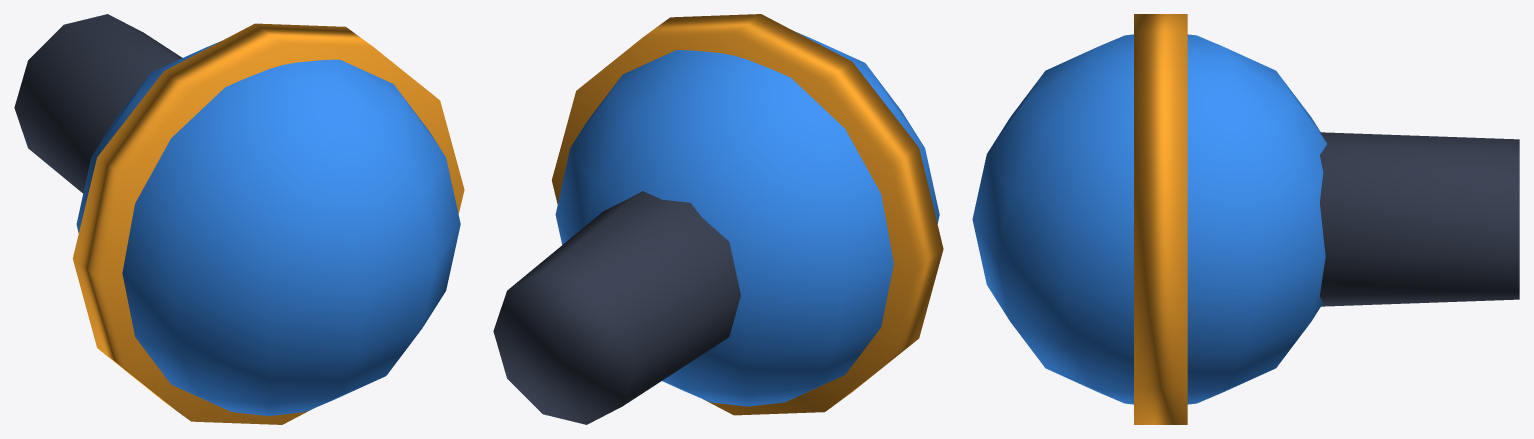
The model's file is glove_wreckball.obj.
3 views of the same model, side by side, from view 1: azimuth 30°, elevation 25°; view 2: azimuth 150°, elevation 25°; view 3: azimuth 270°, elevation 25° (orthographic).
Bounding box in the file's own units: 0.46 × 0.46 × 0.61.
